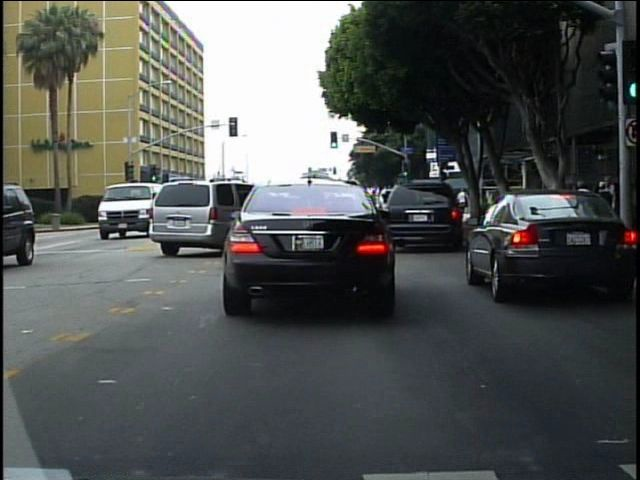person: (598, 172, 616, 235), (457, 184, 470, 221)
